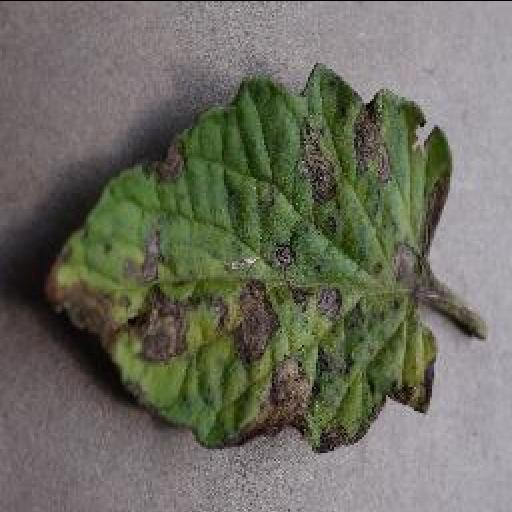disease_tomato: (40, 58, 456, 450)
